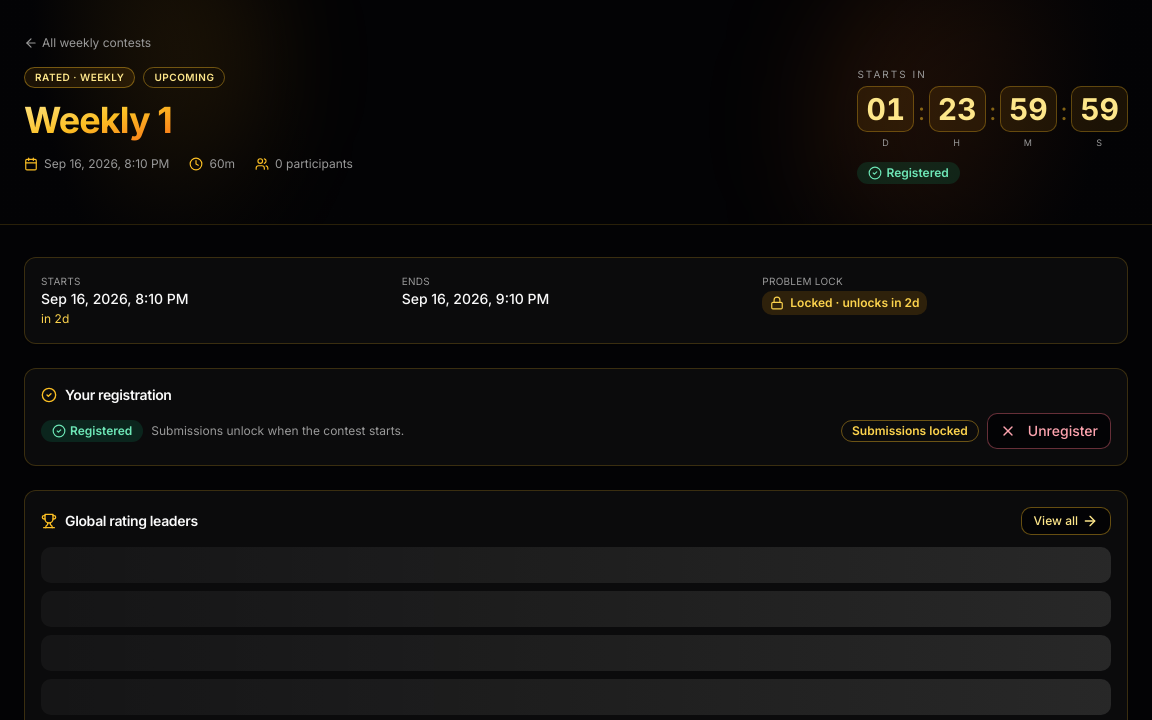
Test case: ContestDetails registration persistence › Unregister clears the badge and fires success toast; error toast on failure
This screenshot has width=1152, height=720.
expect the element with test id "registered-badge" is shown: met, box [858,162,960,184]
What coordinates should you click on to do the following:
click the button "Unregister"
I would click on:
 (1049, 430)
Its box is [987,412,1111,448].
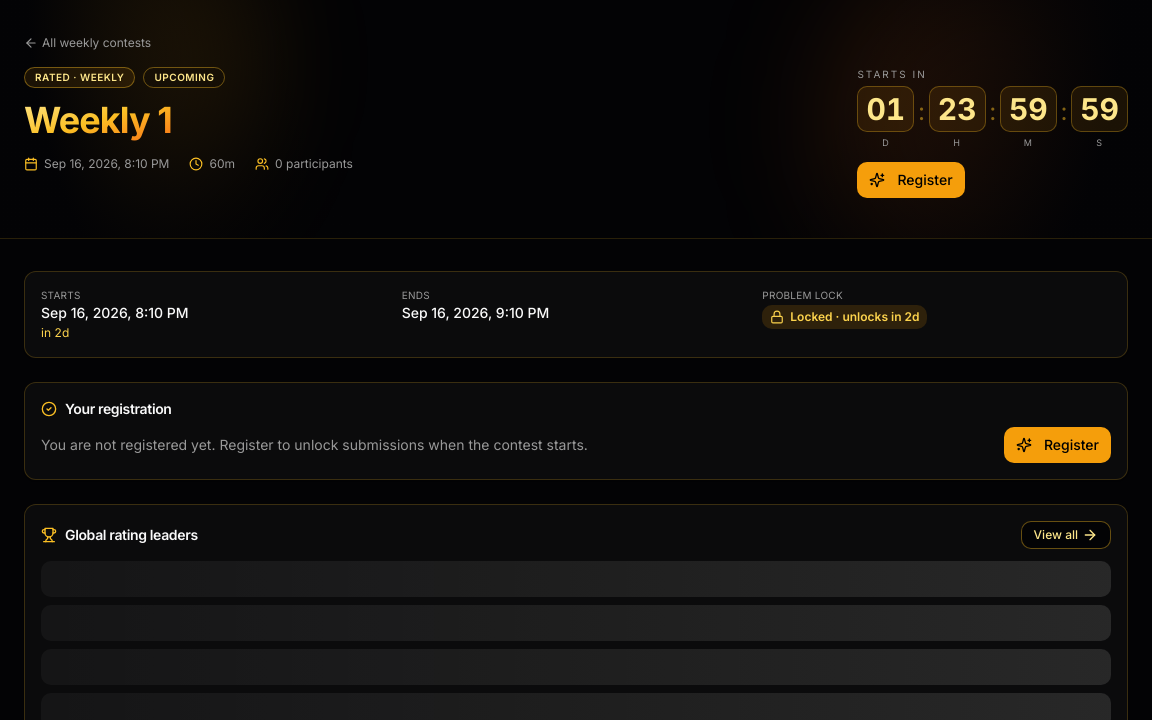
expect the element with test id "registered-badge" is gone: met
